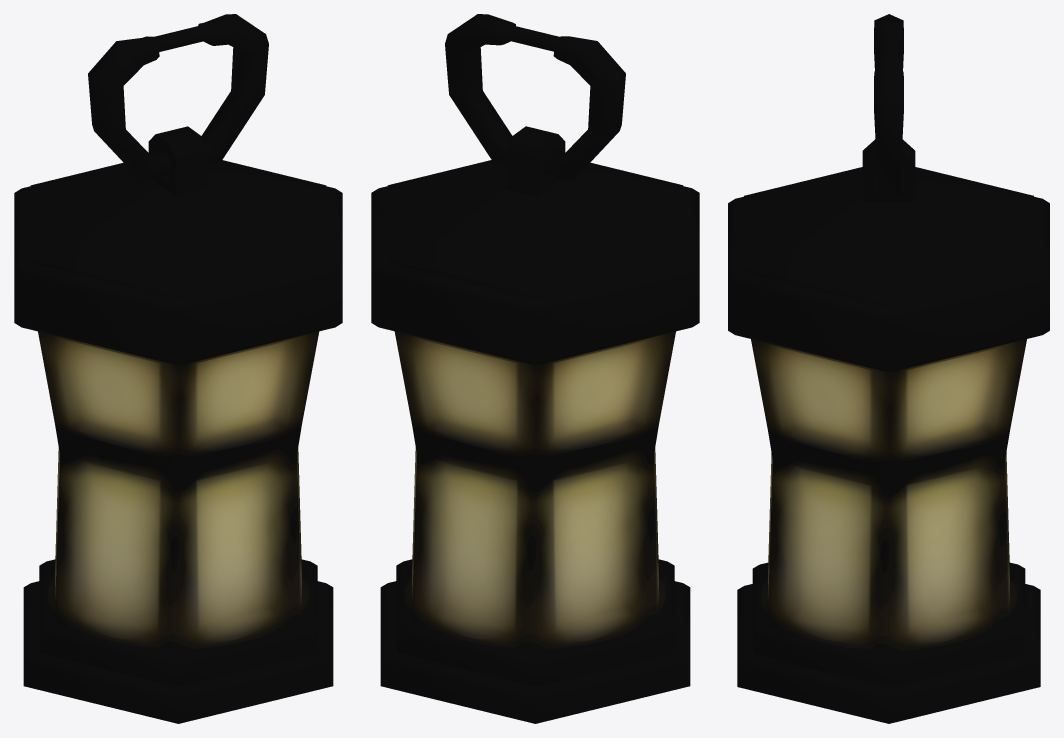
File: lanternaanimada.glb
3 views of the same model, side by side, from view 1: azimuth 30°, elevation 25°; view 2: azimuth 150°, elevation 25°; view 3: azimuth 270°, elevation 25° (orthographic).
Parts seen in each view (by area): view 1: lanterna; view 2: lanterna; view 3: lanterna.
Part boxes in pixels (x1,y1,x2,y2): lanterna: (14, 14, 342, 723); lanterna: (371, 14, 699, 723); lanterna: (728, 14, 1049, 723).
Bounding box in the file's own units: 1.56 × 2.82 × 1.35.
1 material, 1 textured.
